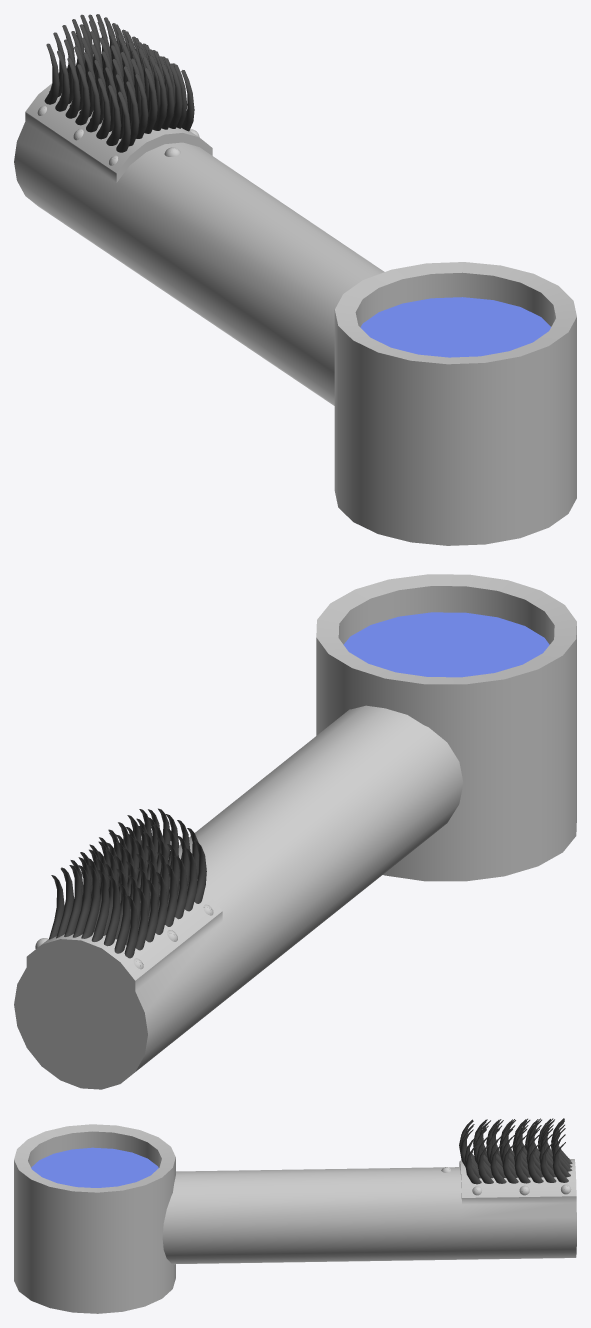
The model's file is brush_scribber_lens.glb.
3 views of the same model, one above another, from view 1: azimuth 30°, elevation 25°; view 2: azimuth 150°, elevation 25°; view 3: azimuth 270°, elevation 25° (orthographic). The views are drawn at different scales.
Visible parts, largest first — view 1: Brush_Scribber_Lens.001; view 2: Brush_Scribber_Lens.001; view 3: Brush_Scribber_Lens.001.
Part boxes in pixels (box(x1,y1,x2,y2)): Brush_Scribber_Lens.001: box(14, 14, 576, 545); Brush_Scribber_Lens.001: box(14, 574, 576, 1089); Brush_Scribber_Lens.001: box(14, 1118, 576, 1313).
Bounding box in the file's own units: 0.4434 × 0.4927 × 1.54.
